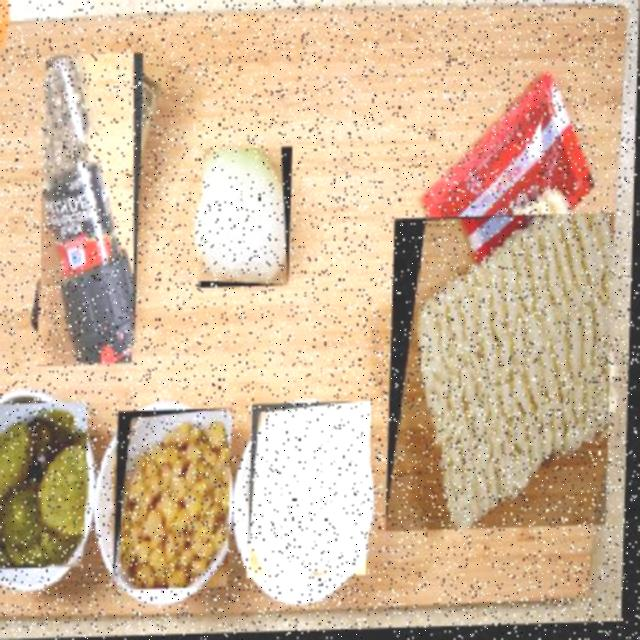Corn: (113, 408, 235, 590)
Mayonnaise: (249, 402, 374, 580)
Noodles: (387, 215, 616, 534)
Onion: (199, 147, 293, 288)
